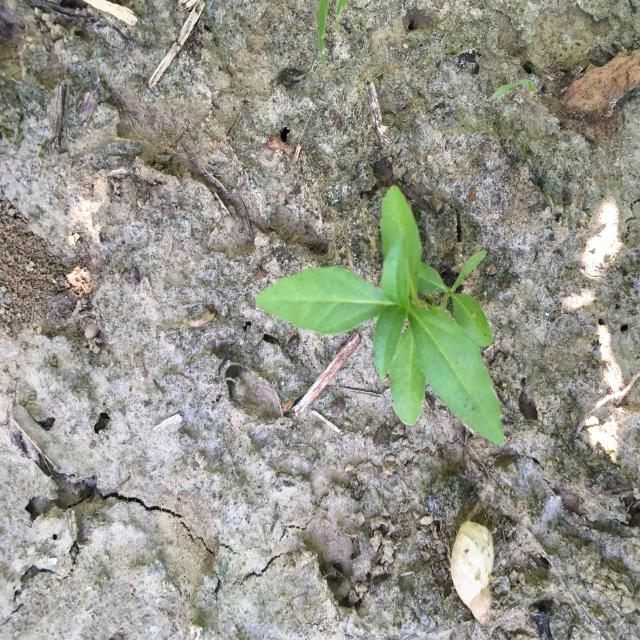Eclipta: (255, 185, 505, 446)
